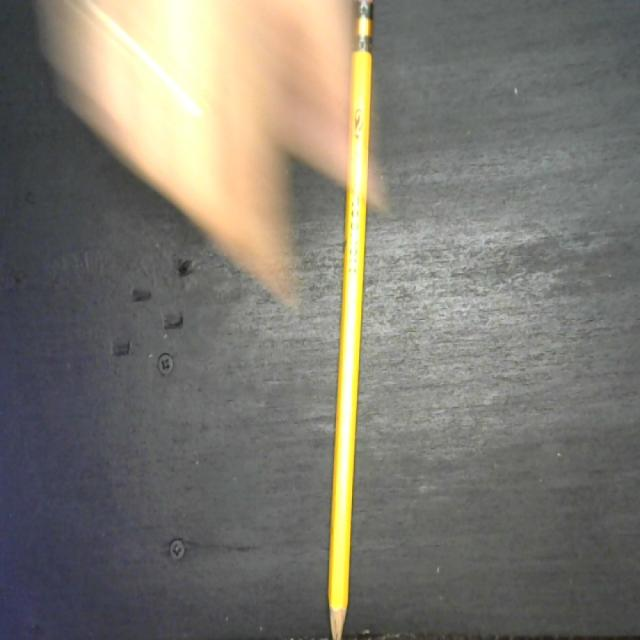biodegradable: (327, 0, 378, 640)
